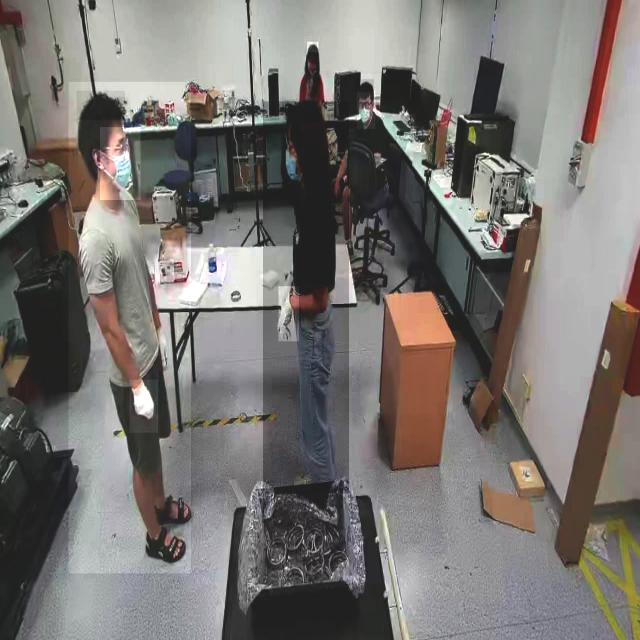face_mask: (100, 127, 140, 200), (281, 122, 303, 186), (357, 91, 375, 129)
face_nomask: (306, 57, 316, 75)
glasses: (112, 139, 132, 158)
hand_glove: (130, 379, 158, 434), (278, 286, 300, 342)
hand_noglove: (332, 180, 342, 204)
head_nohelmet: (76, 91, 126, 121), (284, 100, 326, 124), (356, 79, 374, 93), (307, 42, 319, 53)
person: (68, 82, 192, 574), (263, 102, 349, 494), (334, 74, 388, 269)
